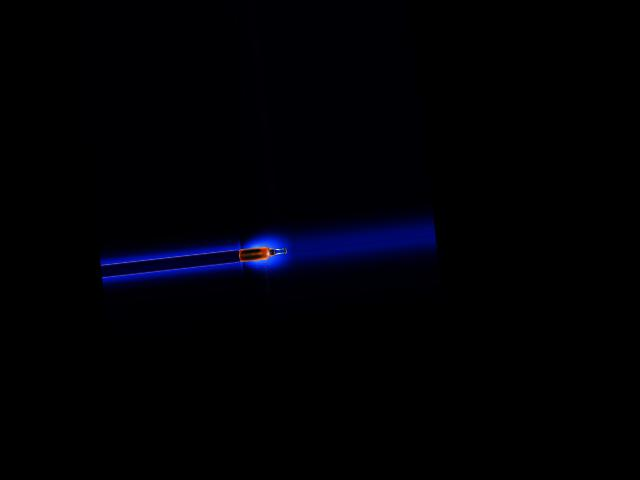beer: (238, 243, 286, 262)
